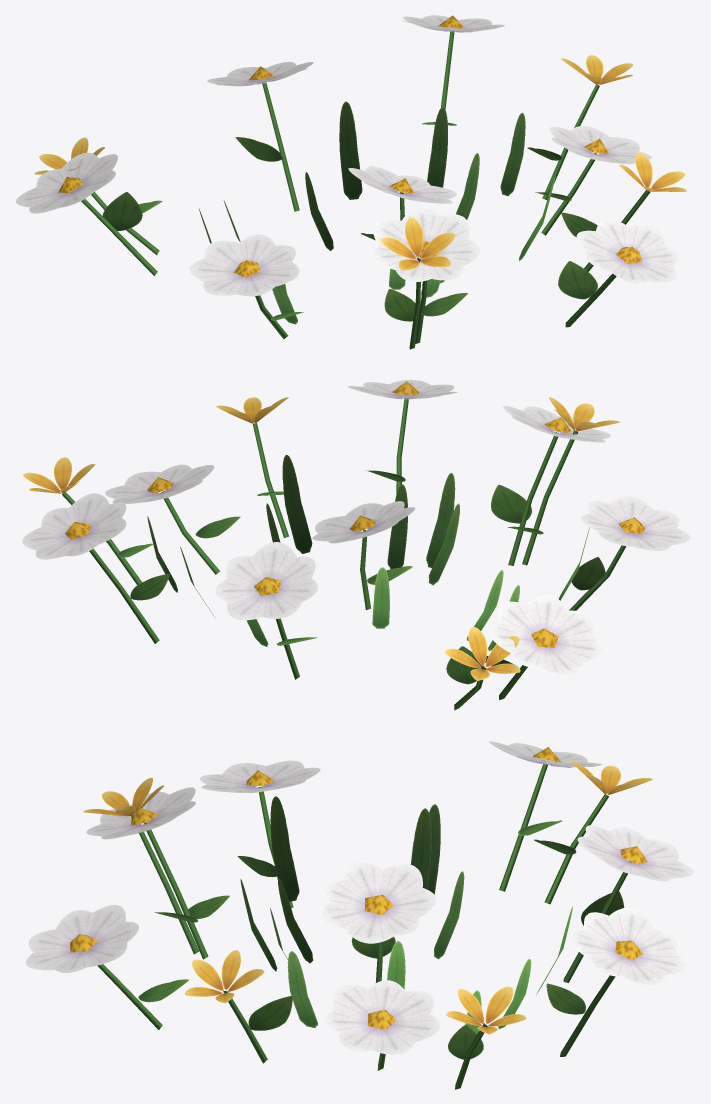
The model's file is flower-meadow.glb.
3 renders of one model, top to bottom at view 1: azimuth 30°, elevation 25°; view 2: azimuth 150°, elevation 25°; view 3: azimuth 270°, elevation 25°, orthographic. The views are drawn at different scales.
Visible parts, largest first — view 1: Flower; view 2: Flower; view 3: Flower.
Part boxes in pixels (left/top/right/bottom): Flower: left=16, top=15, right=686, bottom=349; Flower: left=22, top=379, right=690, bottom=710; Flower: left=25, top=741, right=693, bottom=1089.
Bounding box in the file's own units: 1.36 × 0.3339 × 1.24.
Materials: 1 (1 with a texture image).
